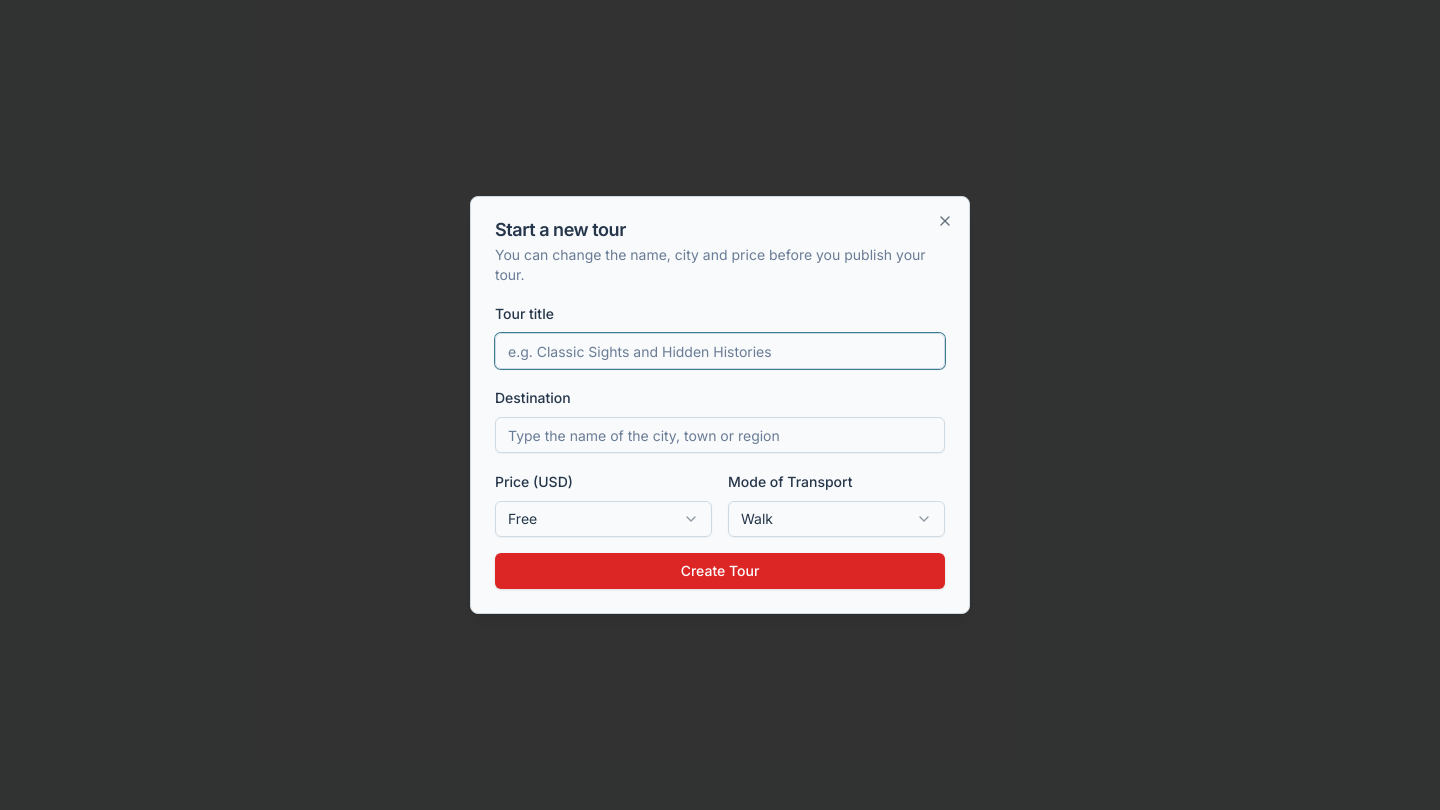
Scenario: Tour Creator Overhaul (Phase F) › StartTourModal › validates required fields
Click the button "Create Tour". click: [720, 571]
box: 495,553 -> 945,589
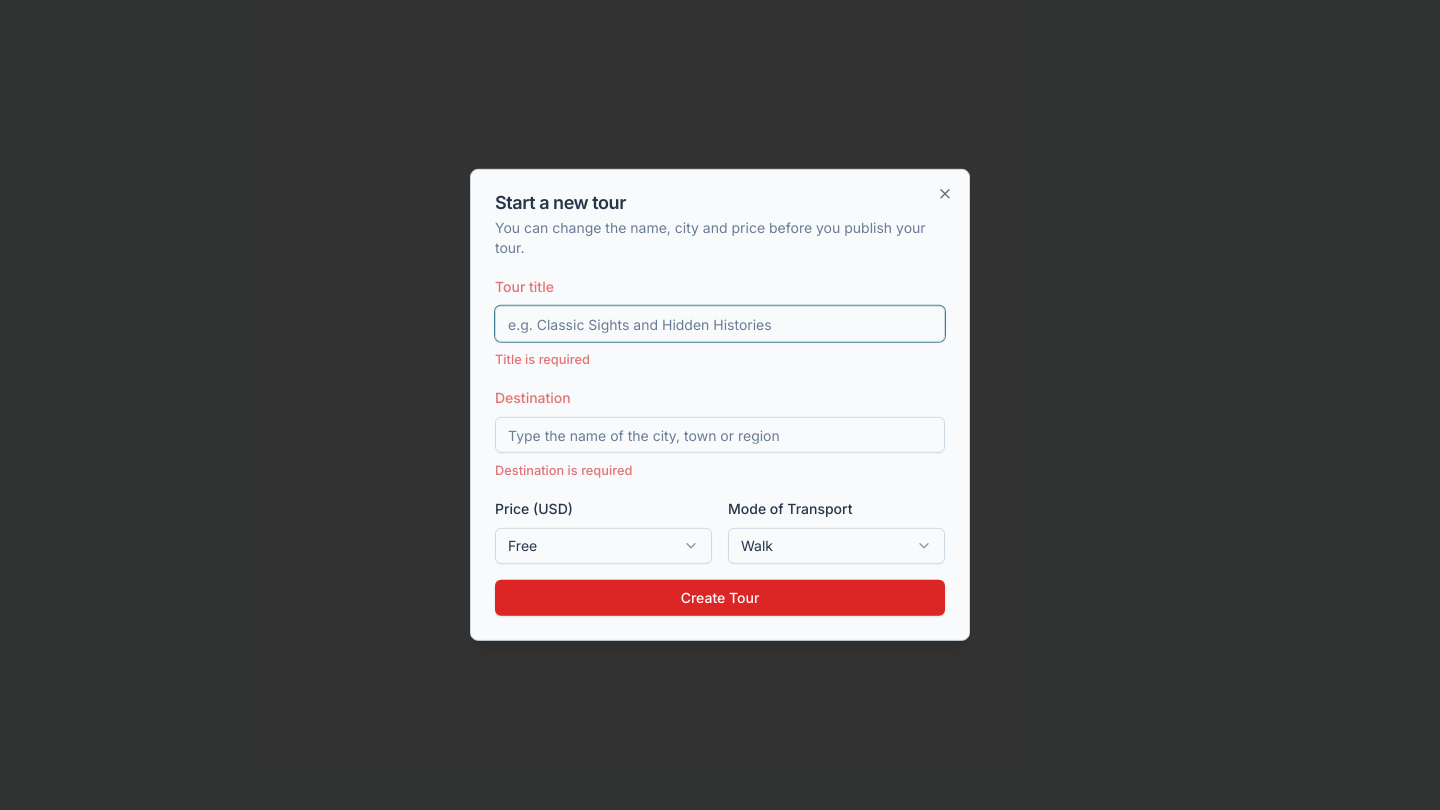
Expected: the text "Title is required" is shown, 495,352 -> 590,367
